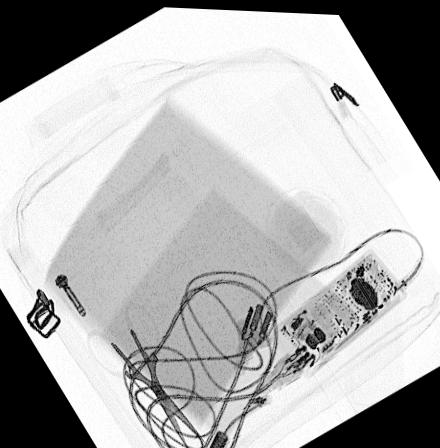Scissors: (85, 301, 205, 448)
